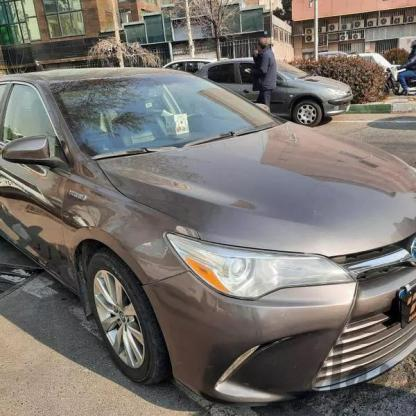Car: (0, 65, 416, 393), (176, 42, 366, 142)
